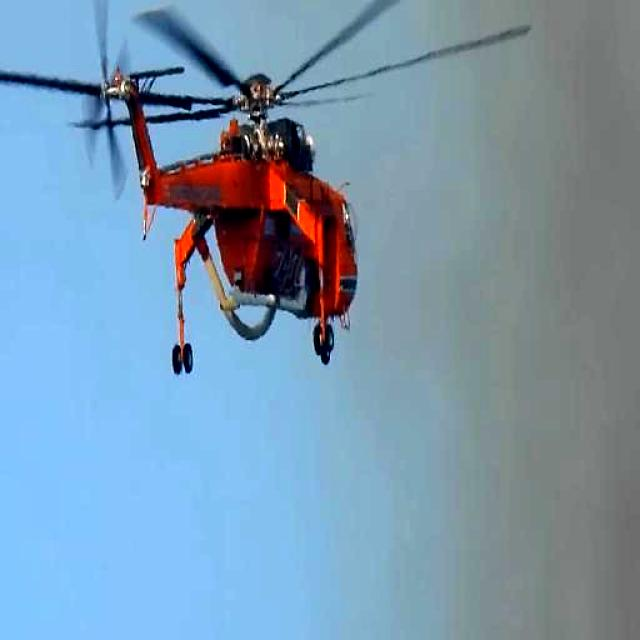drone: (0, 0, 516, 386)
